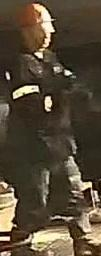helmet: (14, 2, 57, 29)
vest: (10, 51, 74, 166)
